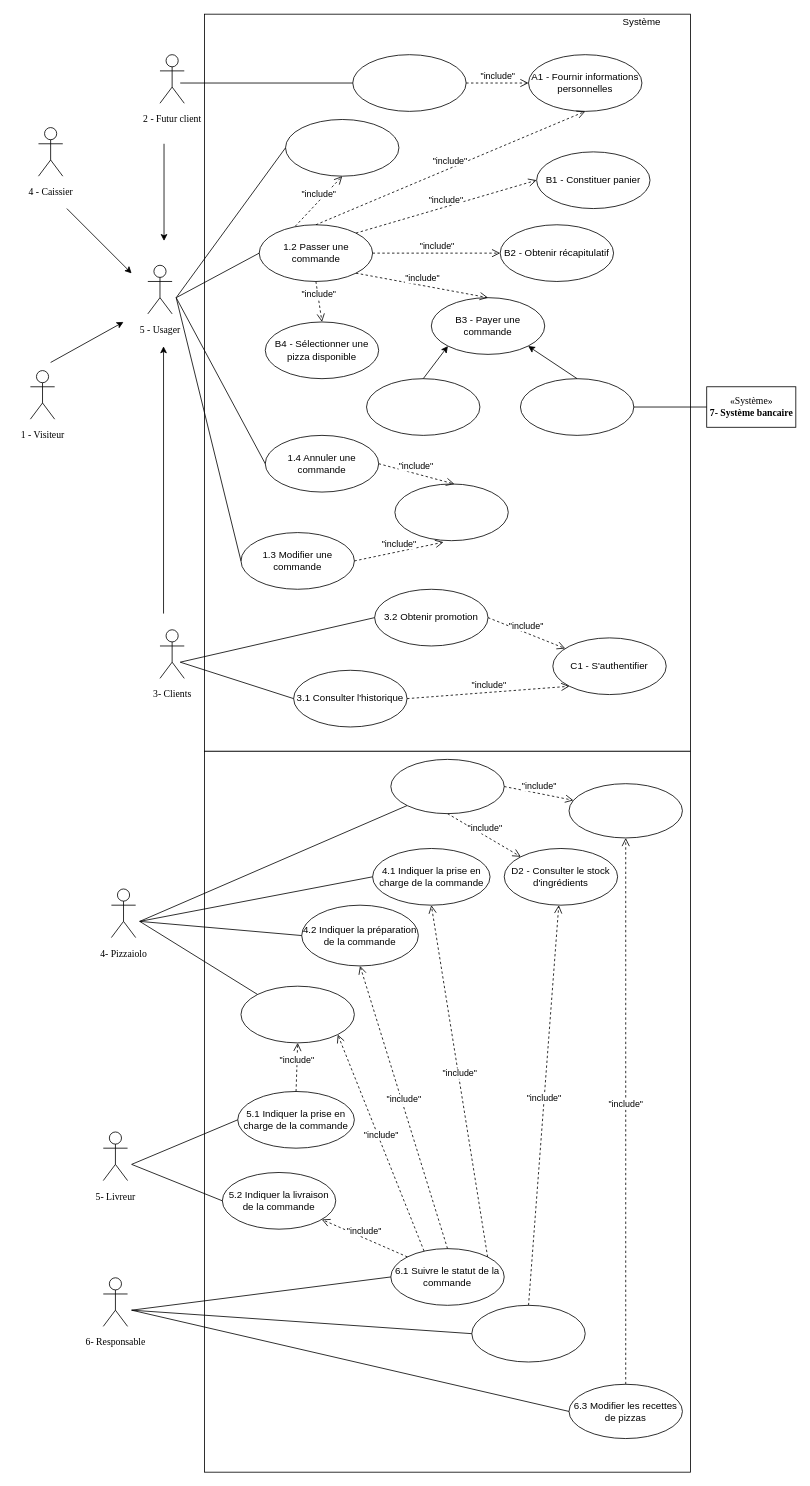
Image size: 810x1486. Some labels were removed from this diagram. Here are the shapes that lost their labels. From the top down, the centre of each, then its label:
point 409,82: 2.1 Créer un compte
point 342,147: 1.1 Consulter catalogue
point 423,406: B32 - Payer à la livraison
point 577,406: B31 - Payer en ligne
point 451,512: B5 - Consulter une commande
point 447,786: 4.4 Consulter les pizzas réalisables
point 625,810: D1 - Consulter les recettes de pizzas
point 297,1014: 4.3 Indiquer "pizza prête"
point 528,1333: 6.2 Modifier le stock d'ingrédients
